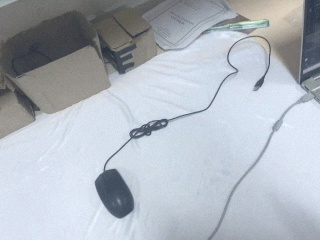box: (2, 9, 112, 113), (96, 7, 158, 74), (1, 75, 36, 153)
mouse: (94, 167, 137, 219)
